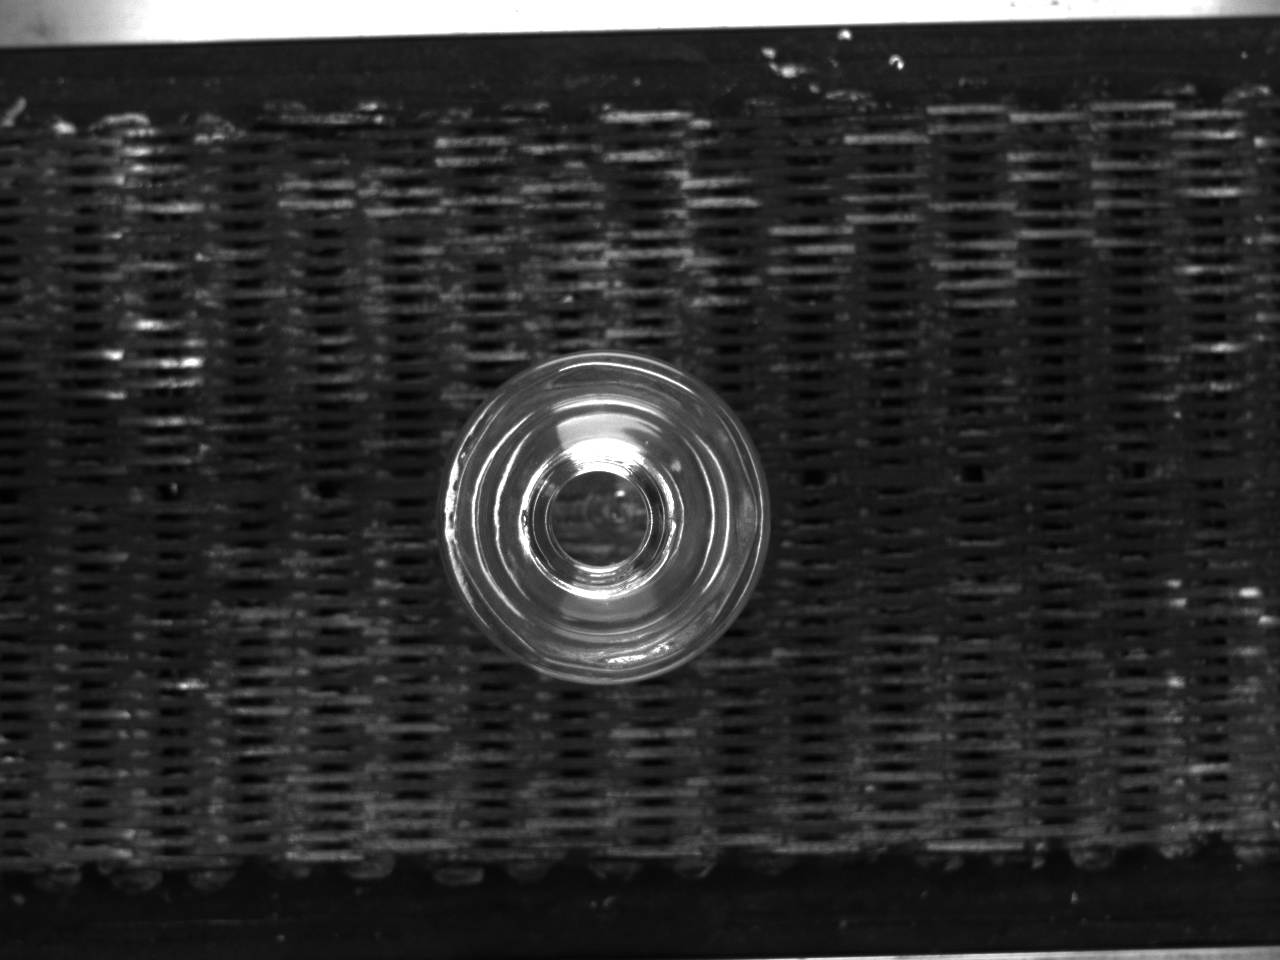bottleneck: (522, 439, 684, 598)
